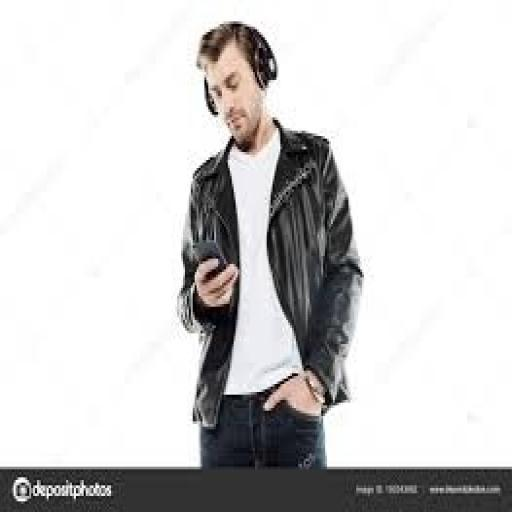texting: (173, 19, 364, 469)
